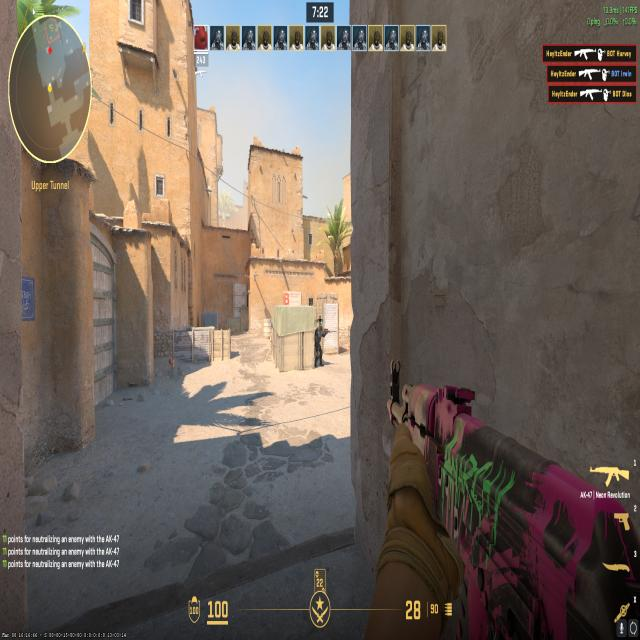ct: (314, 318, 326, 370)
